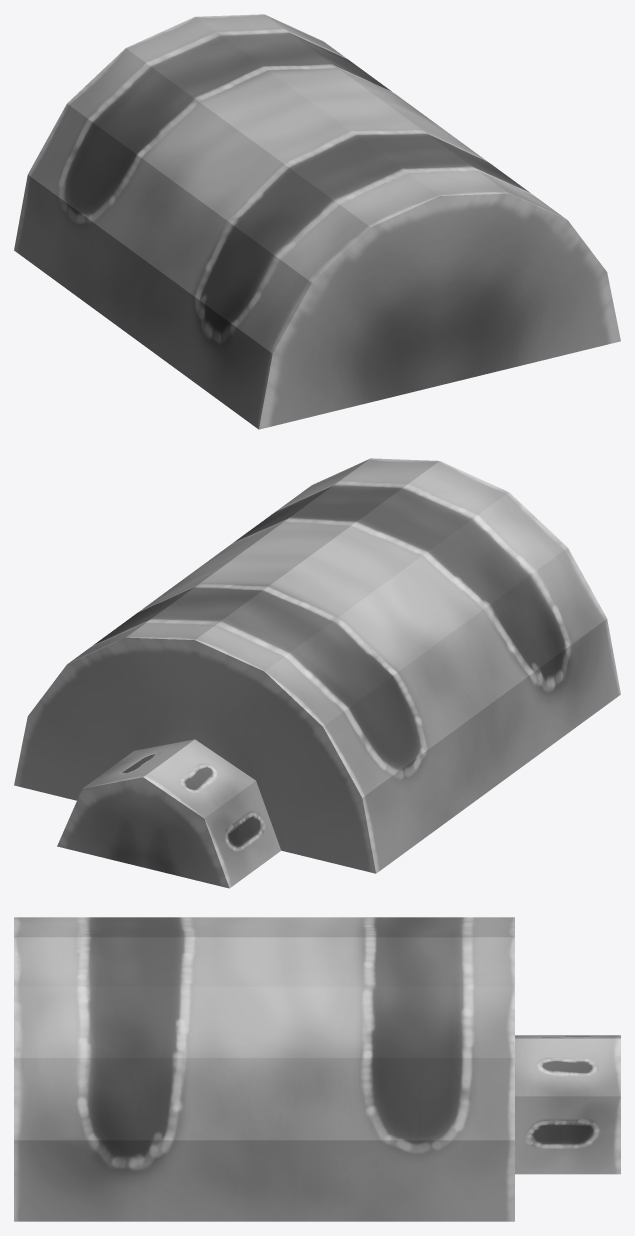
File: energy_station.fbx
3 views of the same model, one above another, from view 1: azimuth 30°, elevation 25°; view 2: azimuth 150°, elevation 25°; view 3: azimuth 270°, elevation 25° (orthographic). The views are drawn at different scales.
Parts seen in each view (by area): view 1: Cylinder; view 2: Cylinder; view 3: Cylinder.
Part boxes in pixels (<box>): Cylinder: <box>14,14,620,429</box>; Cylinder: <box>14,458,620,888</box>; Cylinder: <box>14,917,620,1221</box>.
Size of the model in its own units: 200 by 284 by 100.
